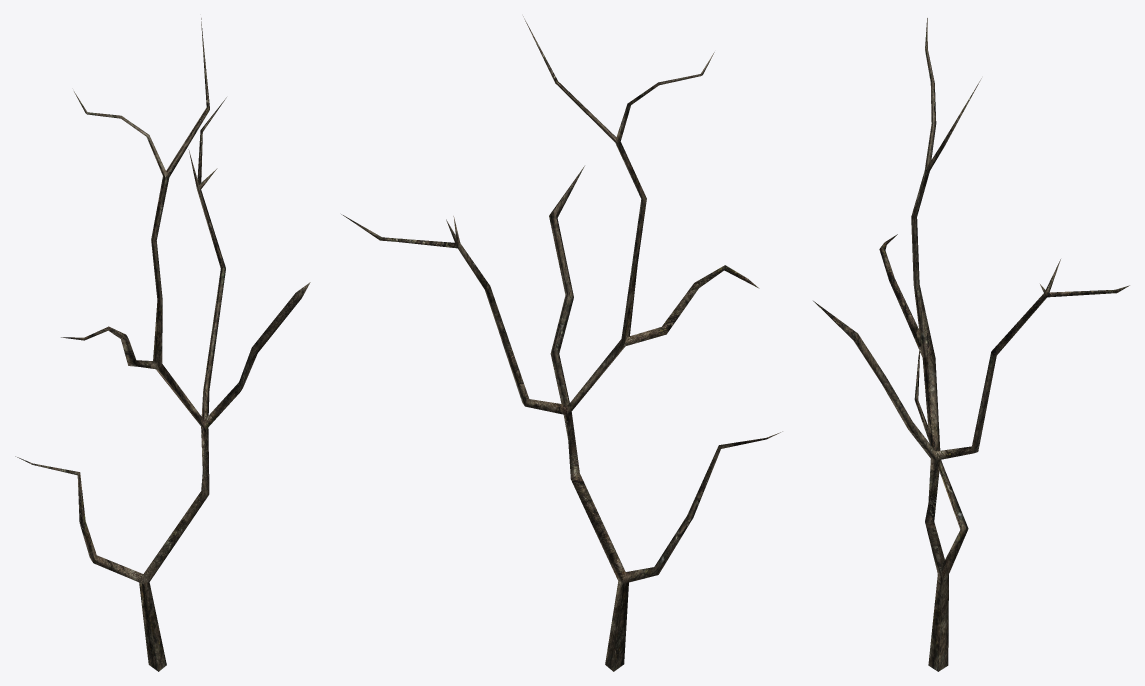
The model's file is bush_dead1.glb.
The picture shows the model from 3 angles, left to right: view 1: azimuth 30°, elevation 25°; view 2: azimuth 150°, elevation 25°; view 3: azimuth 270°, elevation 25°; orthographic projection. The views are drawn at different scales.
Parts seen in each view (by area): view 1: Bush_Dead_Small; view 2: Bush_Dead_Small; view 3: Bush_Dead_Small.
Part boxes in pixels (left/top/right/bottom): Bush_Dead_Small: left=15, top=18, right=310, bottom=671; Bush_Dead_Small: left=341, top=16, right=782, bottom=671; Bush_Dead_Small: left=813, top=18, right=1129, bottom=671.
Size of the model in its own units: 1.3 by 2.42 by 1.12.
Materials: 1 (1 with a texture image).
